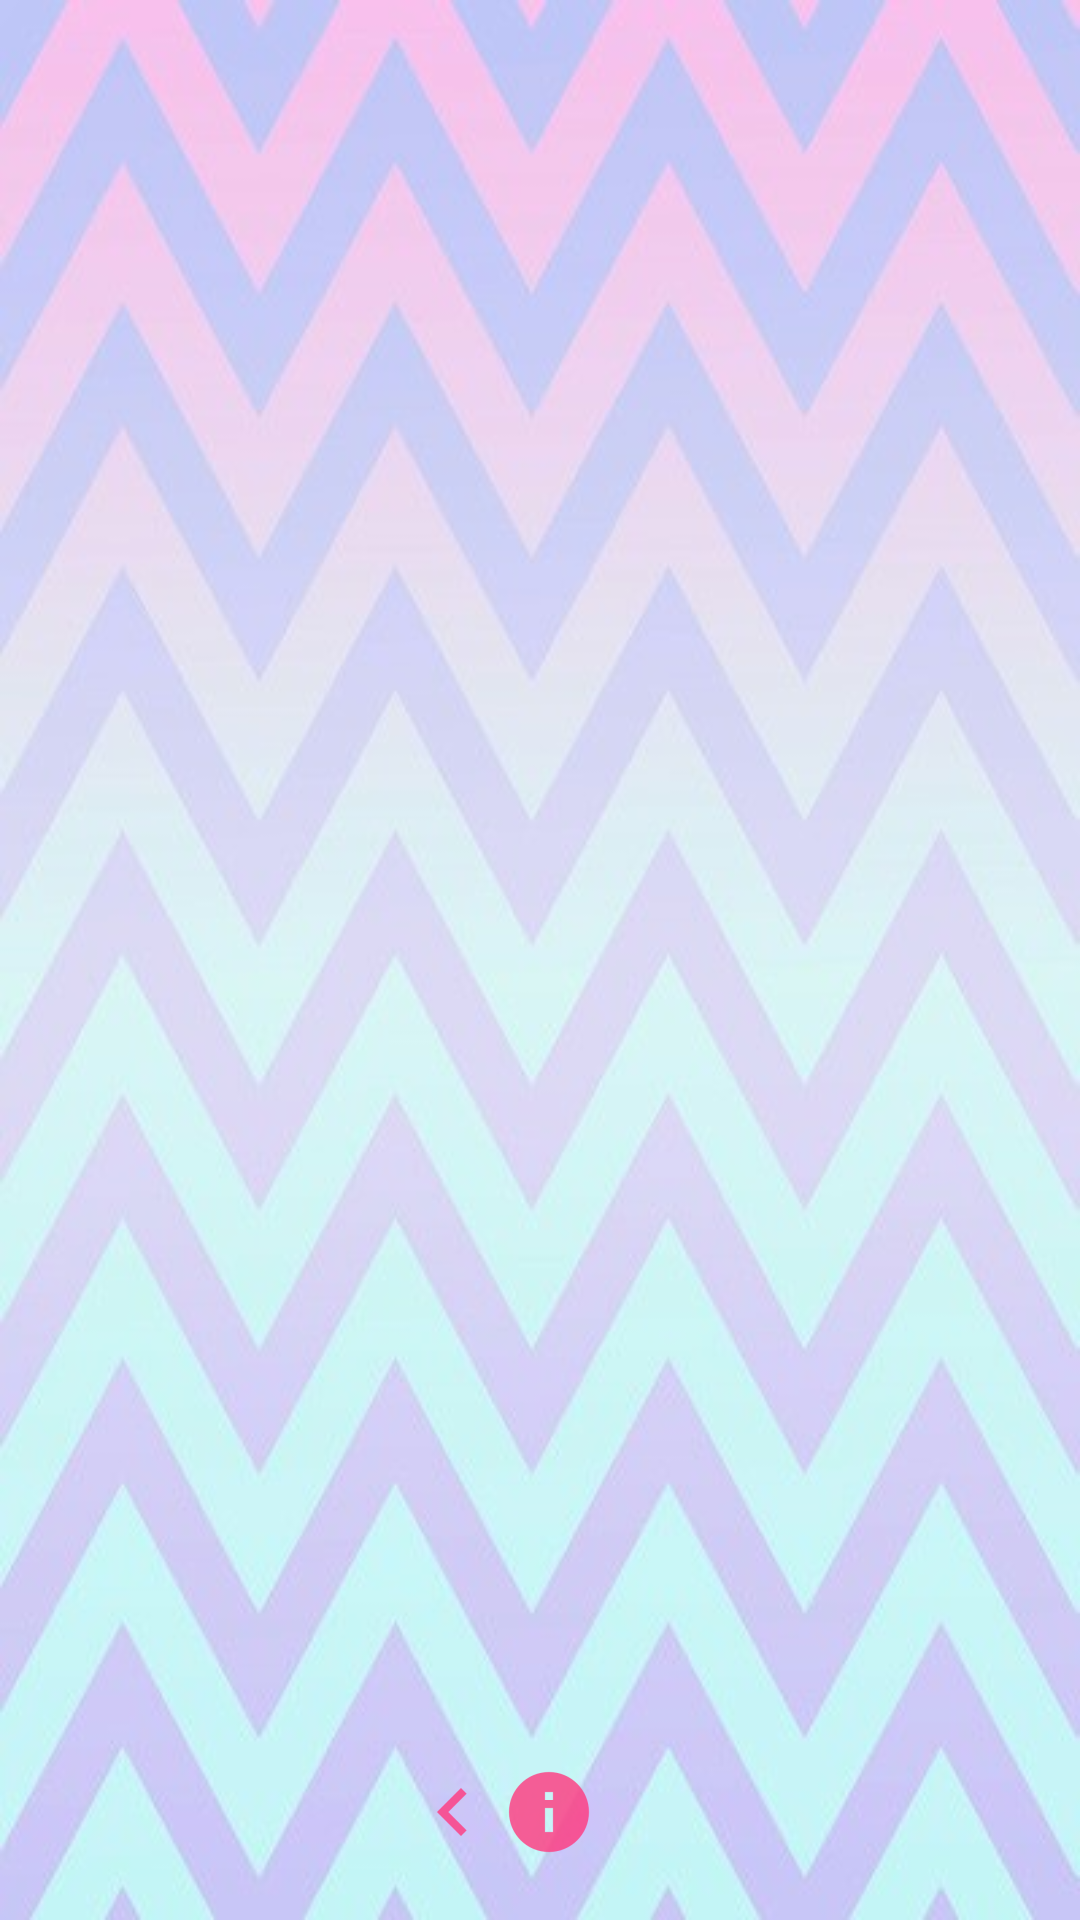

Screen size 1080x1920. Icon name, then its center in pixels as [x,y]:
info: [549,1812]
